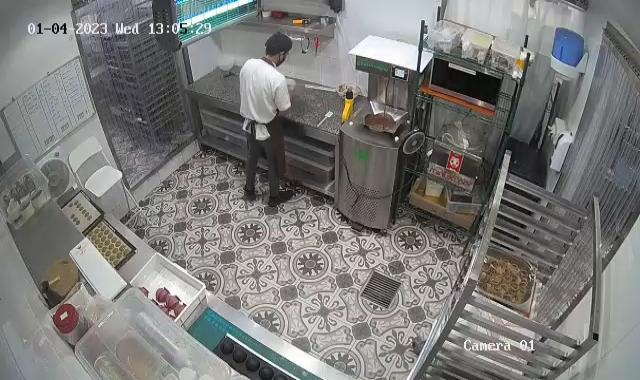no_hairnet: (266, 34, 294, 62)
